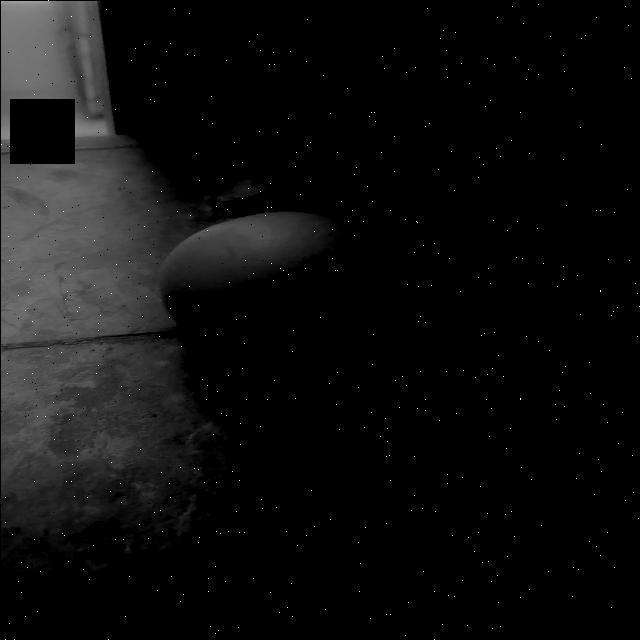egg: (148, 203, 406, 368)
